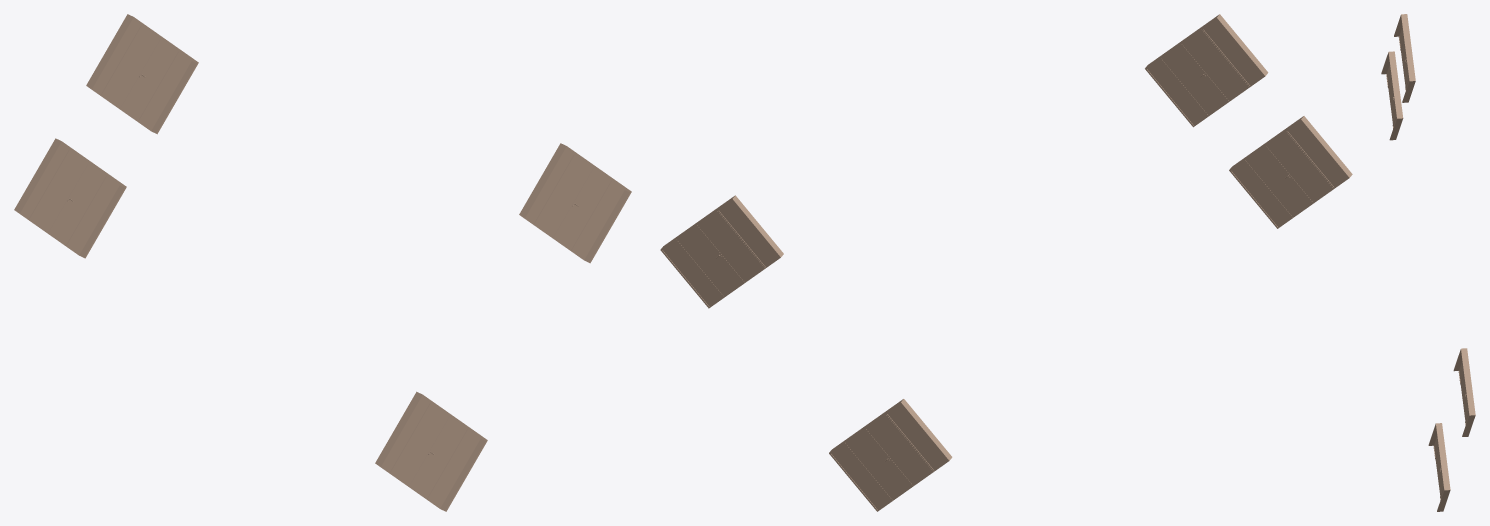
3 renders of one model, left to right at view 1: azimuth 30°, elevation 25°; view 2: azimuth 150°, elevation 25°; view 3: azimuth 270°, elevation 25°, orthographic. The views are drawn at different scales.
Parts seen in each view (by area): view 1: mesh; view 2: mesh; view 3: mesh.
Boxes of the visible parts, bbox=[...] form: mesh: bbox=[14, 14, 631, 511]; mesh: bbox=[660, 14, 1352, 511]; mesh: bbox=[1381, 14, 1475, 511].
Size of the model in its own units: 20.18 by 16.95 by 3.72.
